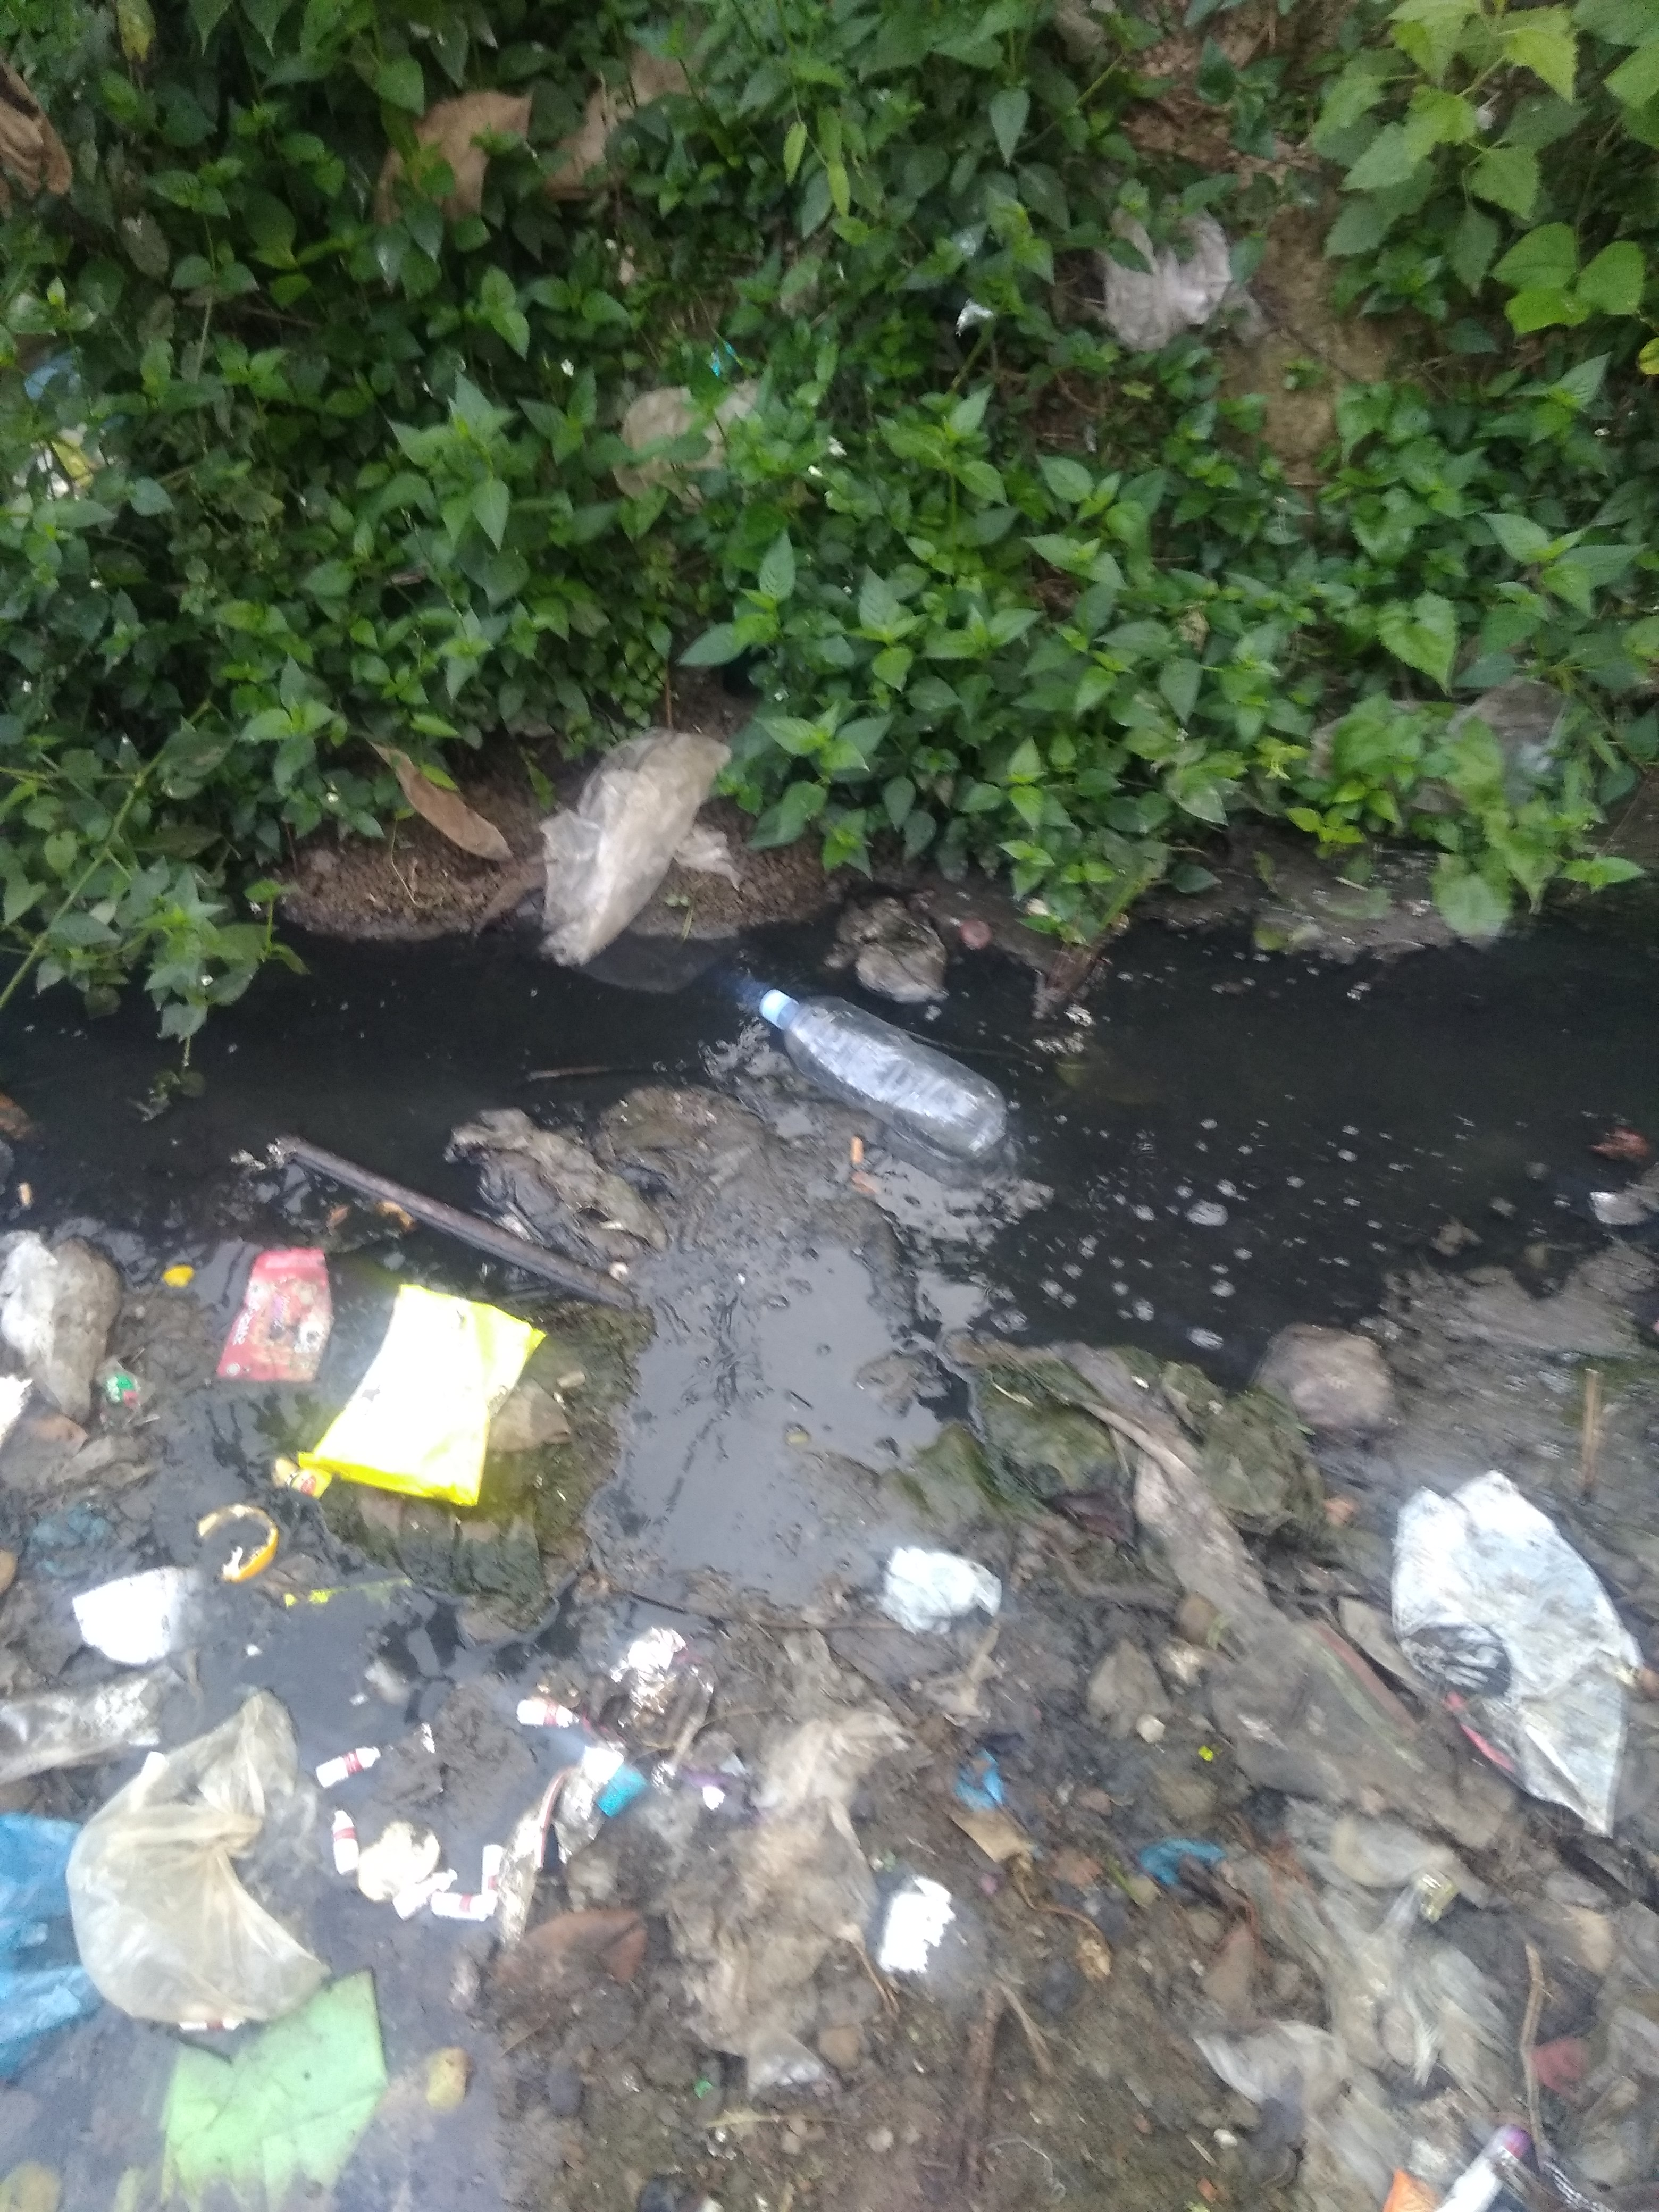Plastic Bottle: (763, 988, 1009, 1160)
